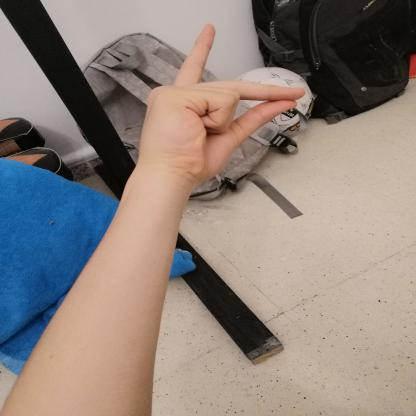TAA: (126, 16, 317, 200)
